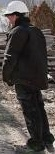boots: (10, 137, 55, 152)
hard-hat: (2, 0, 30, 15)
